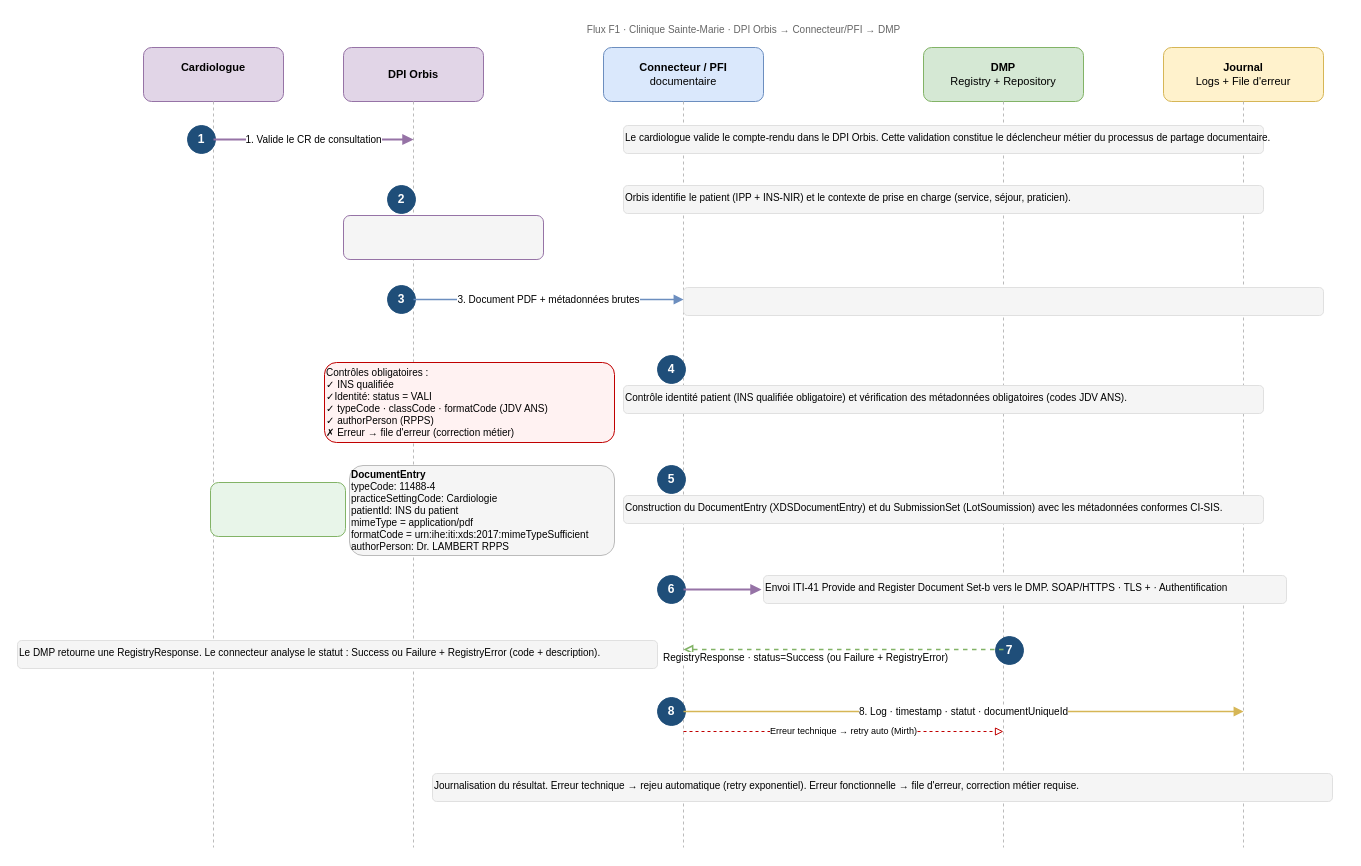
This 1361x866 diagram has some shape labels left out. Here are the shapes that lost their labels. From the top down, the centre of each, then its label:
point (443, 237): Identification patient INS-NIR · IPP · contexte séjour
point (1003, 301): Le connecteur récupère le document PDF/A et ses métadonnées depuis Orbis.
point (278, 509): SubmissionSet patientId: INS-NIR sourceId: OID Orbis submissionTime: horodatage
